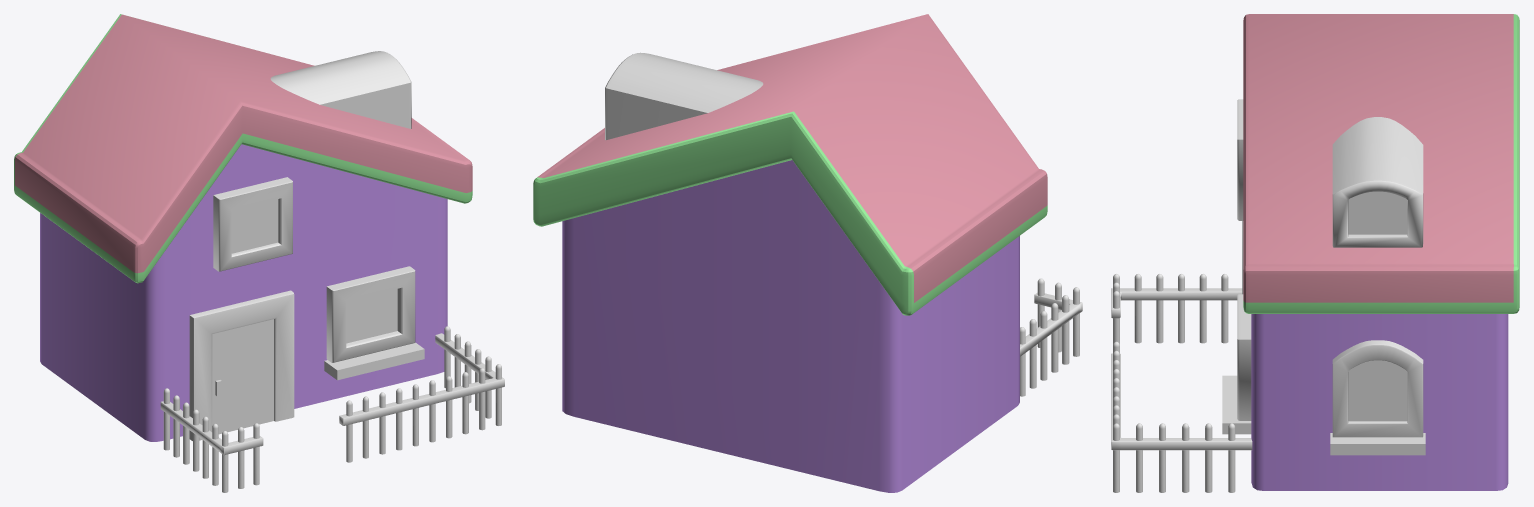
Rendered from Jardinnet.FBX.
3 views of the same model, side by side, from view 1: azimuth 30°, elevation 25°; view 2: azimuth 150°, elevation 25°; view 3: azimuth 270°, elevation 25° (orthographic). The views are drawn at different scales.
Visible parts, largest first — view 1: Batiment002, Box001, PorteCadre002, FenetreCadre012, Porte002, FenetreCadreCarré004, FenetreCadreCarré003, fenetre016, fenetre017, RebordFenetre017; view 2: Batiment002, FenetreCadre012, Box001; view 3: Batiment002, Box001, FenetreCadre012, FenetreCadre014, fenetre021, fenetre019, RebordFenetre019, FenetreCadreCarré004, RebordFenetre017, FenetreCadreCarré003.
Boxes of the visible parts, x1=… form: Batiment002: x1=14, y1=14, x2=472, y2=441; Box001: x1=160, y1=326, x2=504, y2=492; PorteCadre002: x1=189, y1=290, x2=294, y2=440; FenetreCadre012: x1=270, y1=51, x2=411, y2=128; Porte002: x1=212, y1=319, x2=273, y2=434; FenetreCadreCarré004: x1=326, y1=266, x2=415, y2=362; FenetreCadreCarré003: x1=213, y1=177, x2=292, y2=271; fenetre016: x1=346, y1=289, x2=397, y2=343; fenetre017: x1=231, y1=199, x2=278, y2=253; RebordFenetre017: x1=324, y1=342, x2=424, y2=380; Batiment002: x1=533, y1=14, x2=1047, y2=492; FenetreCadre012: x1=605, y1=52, x2=763, y2=140; Box001: x1=1020, y1=278, x2=1082, y2=396; Batiment002: x1=1243, y1=14, x2=1519, y2=490; Box001: x1=1111, y1=274, x2=1252, y2=492; FenetreCadre012: x1=1332, y1=117, x2=1423, y2=247; FenetreCadre014: x1=1332, y1=340, x2=1423, y2=437; fenetre021: x1=1348, y1=360, x2=1407, y2=421; fenetre019: x1=1348, y1=191, x2=1407, y2=234; RebordFenetre019: x1=1330, y1=433, x2=1425, y2=455; FenetreCadreCarré004: x1=1237, y1=294, x2=1251, y2=420; RebordFenetre017: x1=1222, y1=375, x2=1251, y2=434; FenetreCadreCarré003: x1=1237, y1=99, x2=1243, y2=220.
Bounding box in the file's own units: 18.05 × 16.68 × 16.76.
